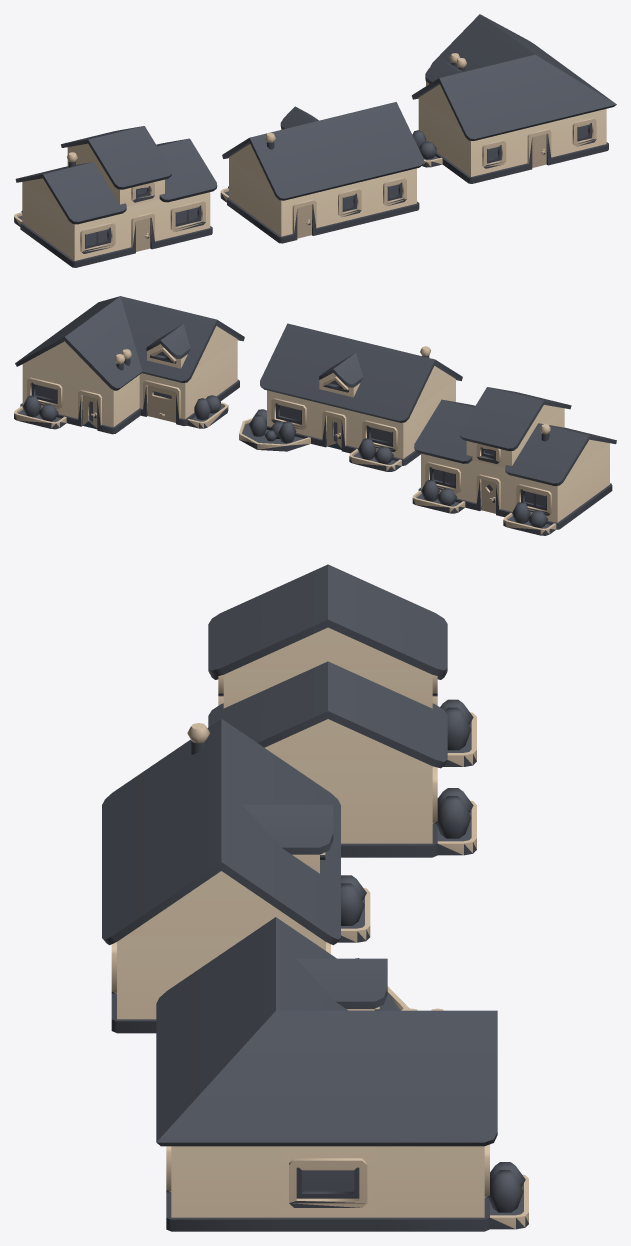
Rendered from street.glb.
3 views of the same model, one above another, from view 1: azimuth 30°, elevation 25°; view 2: azimuth 150°, elevation 25°; view 3: azimuth 270°, elevation 25° (orthographic). The views are drawn at different scales.
Parts seen in each view (by area): view 1: house-m, house-g, house-a; view 2: house-m, house-a, house-g; view 3: house-m, house-a, house-g.
Boxes of the visible parts, bbox=[...] form: house-m: bbox=[412, 14, 616, 183]; house-g: bbox=[220, 102, 423, 243]; house-a: bbox=[14, 126, 217, 267]; house-m: bbox=[14, 296, 244, 434]; house-a: bbox=[412, 387, 616, 535]; house-g: bbox=[239, 323, 462, 471]; house-m: bbox=[156, 917, 528, 1231]; house-a: bbox=[208, 564, 476, 857]; house-g: bbox=[102, 718, 409, 1033].
Size of the model in its own units: 28.18 by 5 by 9.82.
